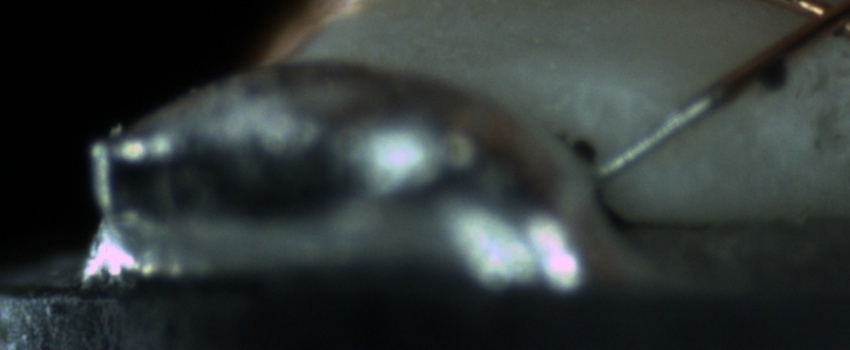CL: (778, 1, 850, 46)
TS: (595, 86, 732, 186)
